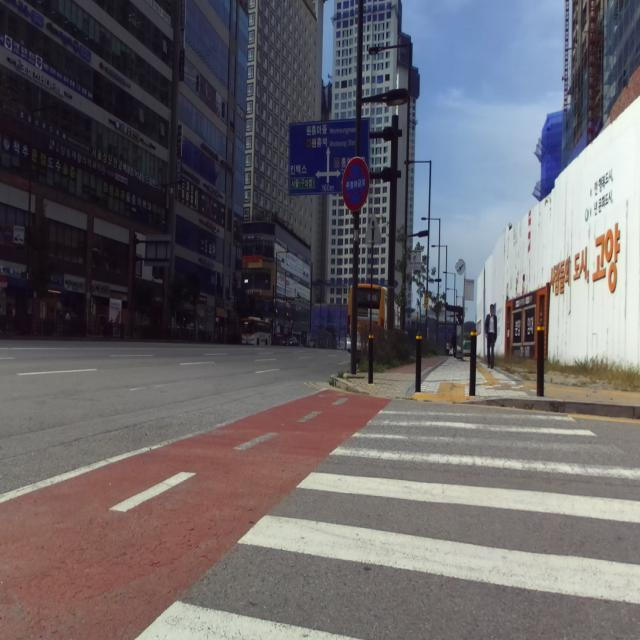횡단보도: (135, 409, 640, 640)
